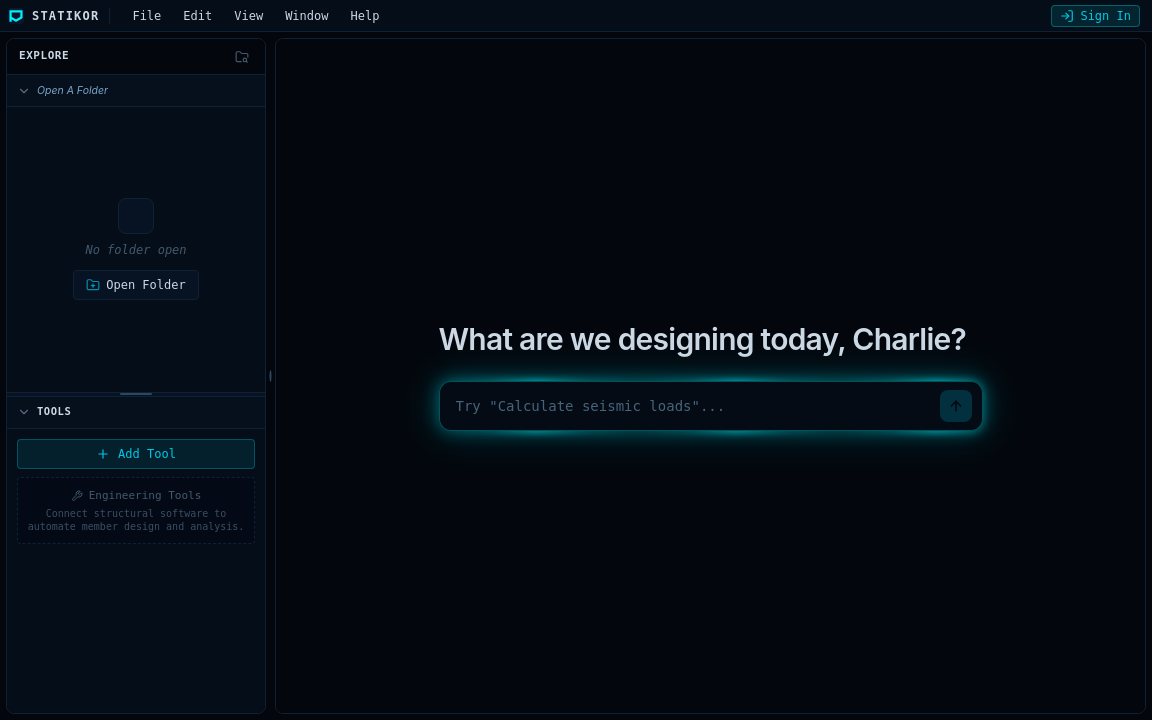
Test: App component › handles Tauri open folder dialog and folder load
The width and height of the screenshot is (1152, 720).
// Click Open Project Folder in sidebar
Click the button titled "Open Project Folder".
click(242, 56)  # box [231,46,253,68]
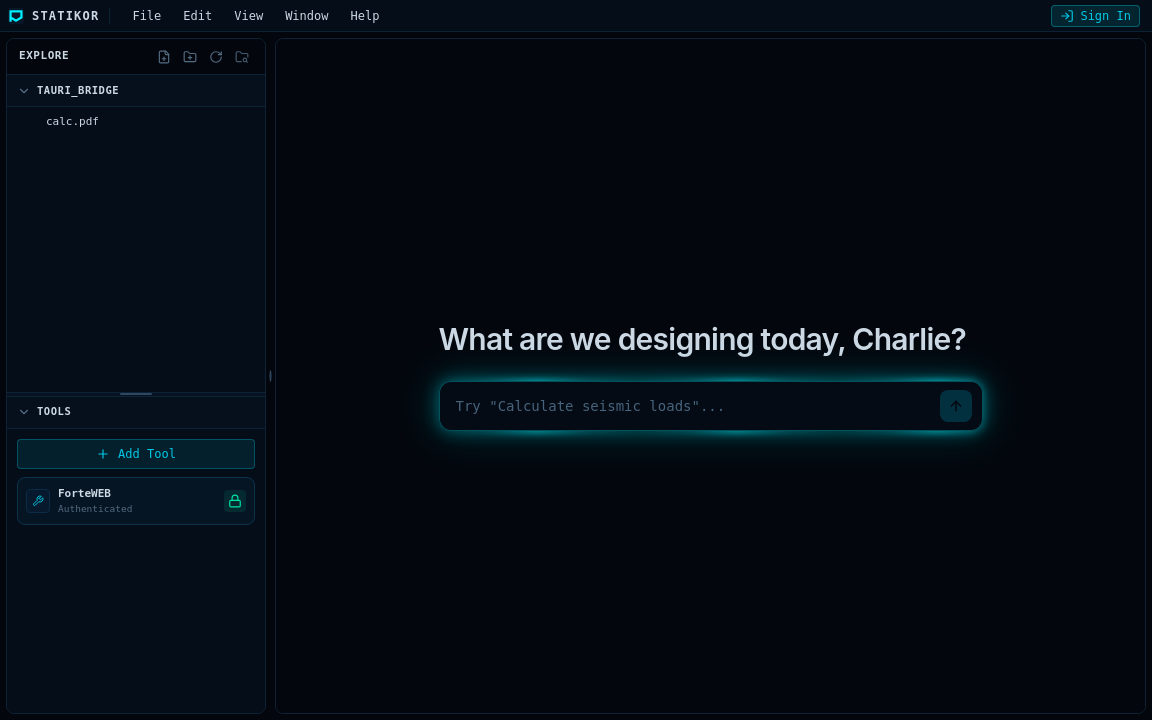
Result: the text "tauri_bridge" is shown at [37,83,119,98]
Result: the text "calc.pdf" is shown at [46,115,99,128]
